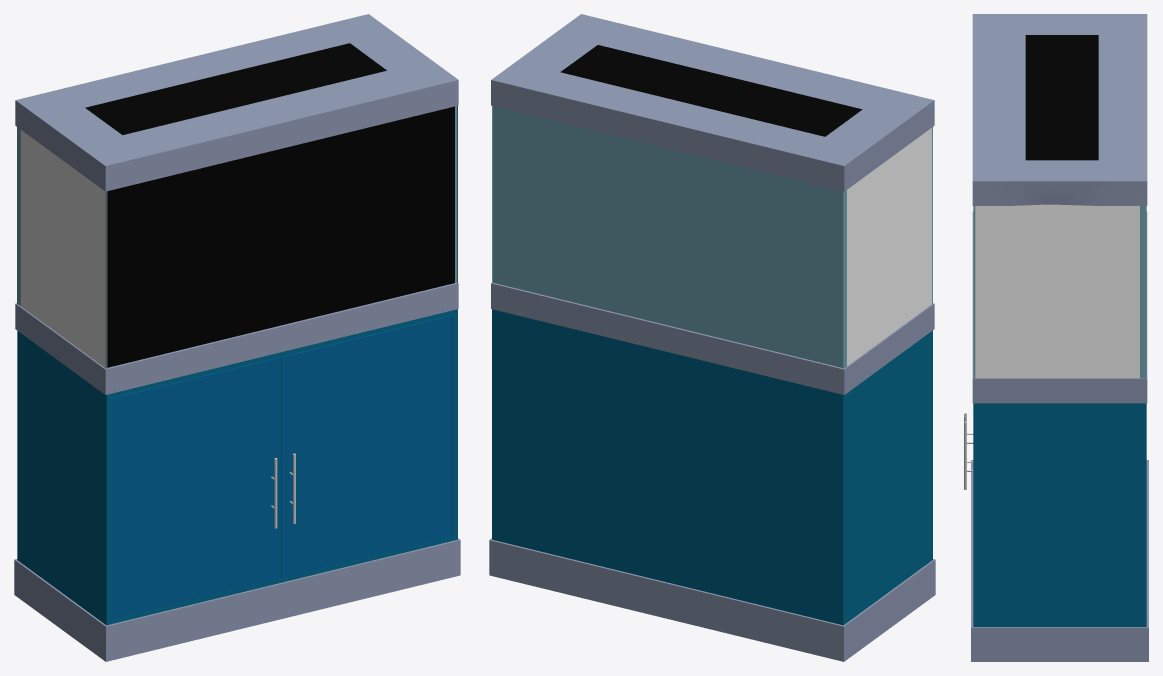
Rendered from Aquarium.fbx.
The picture shows the model from 3 angles, left to right: view 1: azimuth 30°, elevation 25°; view 2: azimuth 150°, elevation 25°; view 3: azimuth 270°, elevation 25°; orthographic projection. The views are drawn at different scales.
Visible parts, largest first — view 1: Aquarium; view 2: Aquarium; view 3: Aquarium.
Part boxes in pixels (x1,y1,x2,y2): Aquarium: (14,14,460,661); Aquarium: (489,14,935,661); Aquarium: (964,14,1148,661).
Bounding box in the file's own units: 116 × 155 × 53.98.
Materials: 2 (1 with a texture image).
